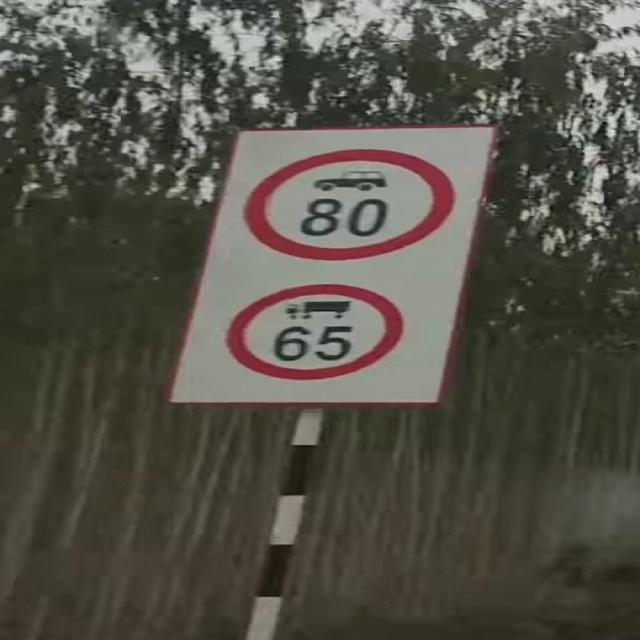speedlimit_65: (252, 153, 450, 262), (227, 285, 401, 379)
